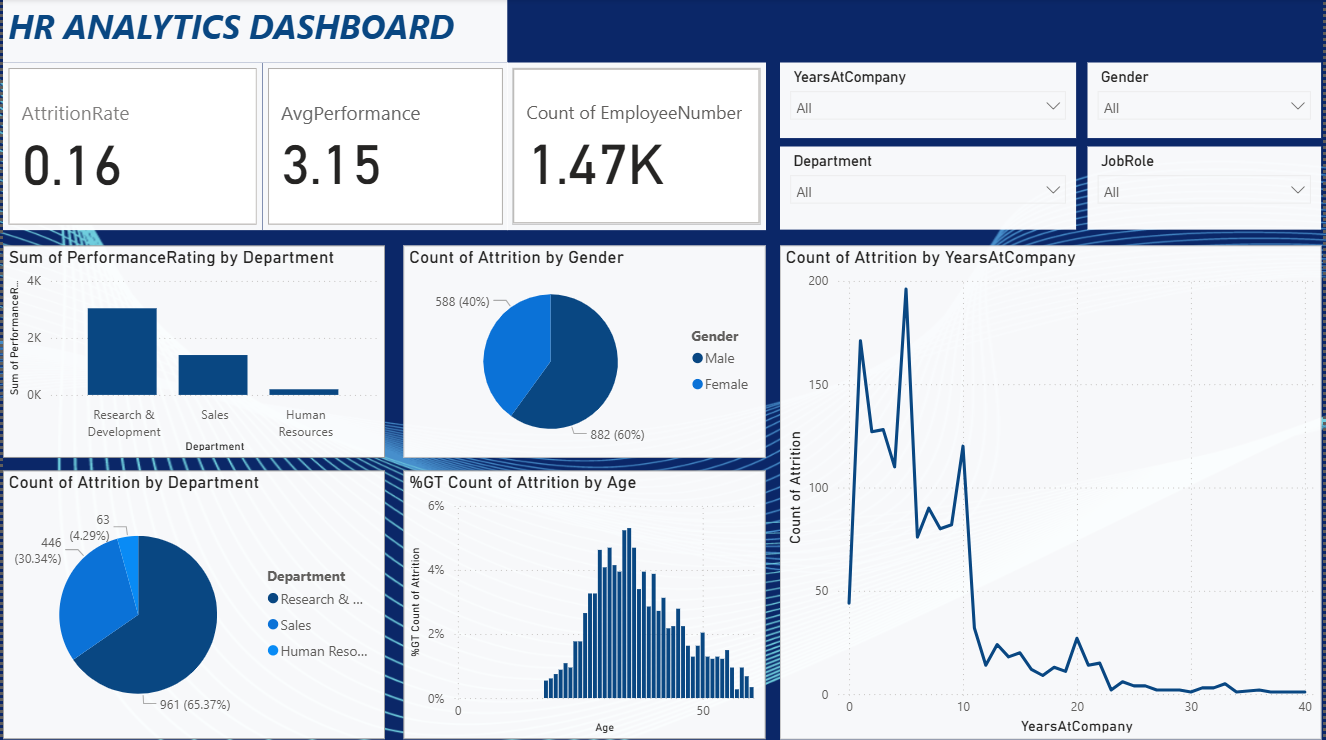

Layout of this report page (visuals, bound fields, positions):
{"tool":"powerbi","page":{"name":"HR ANALYSIS DASHBOARD TASK 2","canvas":[1280,720],"ordinal":0},"visuals":[{"type":"cardVisual","fields":{"Data":["HR EMPLOYEE DATASET.AttritionRate"]},"box":[0,62.4,251.3,162.5],"z":0},{"type":"cardVisual","fields":{"Data":["HR EMPLOYEE DATASET.AvgPerformance"]},"box":[251.3,62.4,238.1,162.5],"z":1000},{"type":"cardVisual","fields":{"Data":["CountNonNull(HR EMPLOYEE DATASET.EmployeeNumber)"]},"box":[489.5,62.4,251.3,162.5],"z":2000},{"type":"clusteredColumnChart","fields":{"Y":["Sum(HR EMPLOYEE DATASET.PerformanceRating)"],"Category":["HR EMPLOYEE DATASET.Department"]},"box":[0,240,370.4,206],"z":3000},{"type":"pieChart","fields":{"Y":["CountNonNull(HR EMPLOYEE DATASET.Attrition)"],"Category":["HR EMPLOYEE DATASET.Department"]},"box":[0,459.2,370.4,260.8],"z":4000},{"type":"pieChart","fields":{"Y":["CountNonNull(HR EMPLOYEE DATASET.Attrition)"],"Category":["HR EMPLOYEE DATASET.Gender"]},"box":[389.3,240,351.5,206],"z":5000},{"type":"clusteredColumnChart","fields":{"Y":["CountNonNull(HR EMPLOYEE DATASET.Attrition)"],"Category":["HR EMPLOYEE DATASET.Age"]},"box":[389.3,459.2,351.5,260.8],"z":6000},{"type":"lineChart","fields":{"Y":["CountNonNull(HR EMPLOYEE DATASET.Attrition)"],"Category":["HR EMPLOYEE DATASET.YearsAtCompany"]},"box":[754,240.2,525.3,479.3],"z":7000},{"type":"slicer","fields":{"Values":["HR EMPLOYEE DATASET.YearsAtCompany"]},"box":[754,62.1,287.4,73.6],"z":8000},{"type":"slicer","fields":{"Values":["HR EMPLOYEE DATASET.Gender"]},"box":[1052.9,62.1,226.4,73.6],"z":9000},{"type":"slicer","fields":{"Values":["HR EMPLOYEE DATASET.JobRole"]},"box":[1052.9,143.7,226.4,80.5],"z":10000},{"type":"slicer","fields":{"Values":["HR EMPLOYEE DATASET.Department"]},"box":[754,143.7,287.4,80.5],"z":11000},{"type":"textbox","box":[0,0,489.5,62.4],"z":12000}]}

Visuals, with their boxes in screenshot pixels (x1, y1, x2, y2), scaled from the page's 1280x720 canvas onto the 1326x740 screenshot:
cardVisual - HR EMPLOYEE DATASET.AttritionRate: <region>0, 64, 260, 231</region>
cardVisual - HR EMPLOYEE DATASET.AvgPerformance: <region>260, 64, 507, 231</region>
cardVisual - CountNonNull(HR EMPLOYEE DATASET.EmployeeNumber): <region>507, 64, 767, 231</region>
clusteredColumnChart - Sum(HR EMPLOYEE DATASET.PerformanceRating) x HR EMPLOYEE DATASET.Department: <region>0, 247, 384, 458</region>
pieChart - CountNonNull(HR EMPLOYEE DATASET.Attrition) x HR EMPLOYEE DATASET.Department: <region>0, 472, 384, 739</region>
pieChart - CountNonNull(HR EMPLOYEE DATASET.Attrition) x HR EMPLOYEE DATASET.Gender: <region>403, 247, 767, 458</region>
clusteredColumnChart - CountNonNull(HR EMPLOYEE DATASET.Attrition) x HR EMPLOYEE DATASET.Age: <region>403, 472, 767, 739</region>
lineChart - CountNonNull(HR EMPLOYEE DATASET.Attrition) x HR EMPLOYEE DATASET.YearsAtCompany: <region>781, 247, 1325, 739</region>
slicer - HR EMPLOYEE DATASET.YearsAtCompany: <region>781, 64, 1079, 139</region>
slicer - HR EMPLOYEE DATASET.Gender: <region>1091, 64, 1325, 139</region>
slicer - HR EMPLOYEE DATASET.JobRole: <region>1091, 148, 1325, 230</region>
slicer - HR EMPLOYEE DATASET.Department: <region>781, 148, 1079, 230</region>
textbox: <region>0, 0, 507, 64</region>
